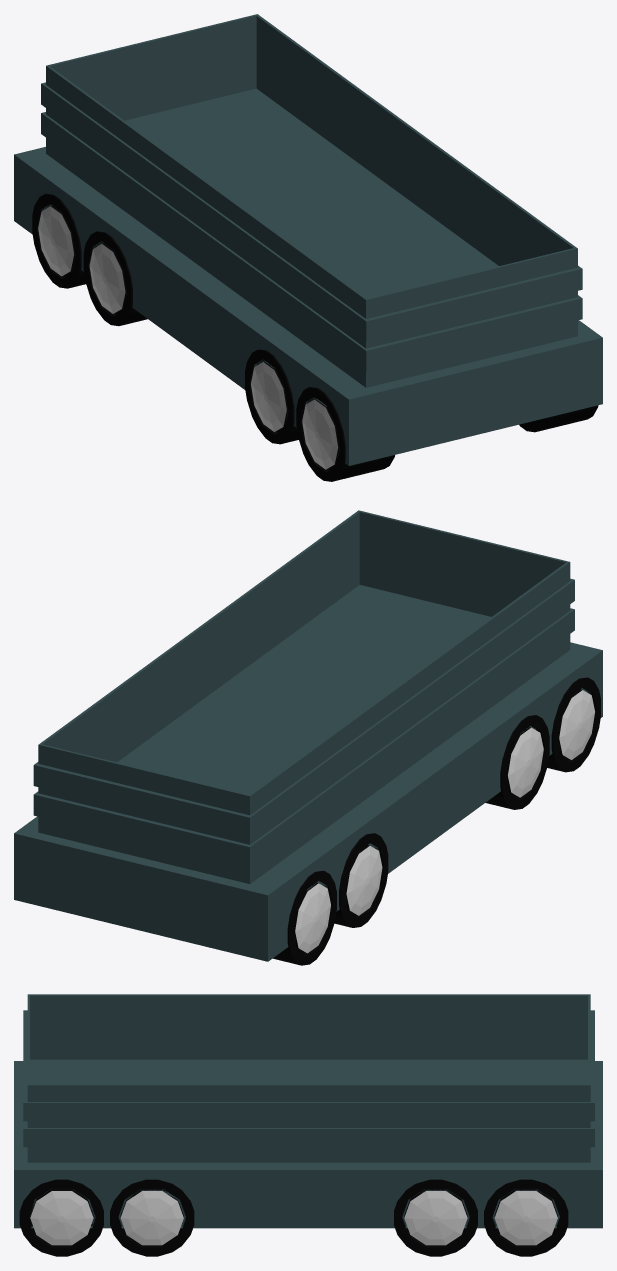
File: BackTruck_04.fbx
3 views of the same model, one above another, from view 1: azimuth 30°, elevation 25°; view 2: azimuth 150°, elevation 25°; view 3: azimuth 270°, elevation 25° (orthographic). The views are drawn at different scales.
Visible parts, largest first — view 1: BackTruck_04; view 2: BackTruck_04; view 3: BackTruck_04.
Part boxes in pixels (x1,y1,x2,y2): BackTruck_04: (14,14,602,481); BackTruck_04: (14,510,602,965); BackTruck_04: (14,994,602,1256).
Bounding box in the file's own units: 618 × 420 × 1370.
